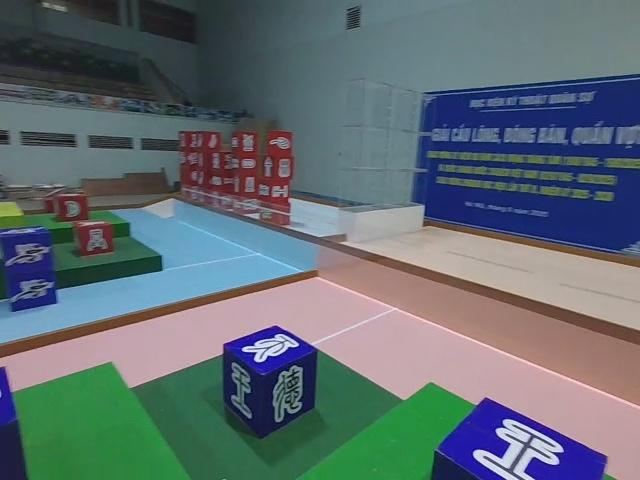R1 Blue: (0, 227, 59, 314)
R2 Fake Blue: (421, 391, 610, 480), (223, 327, 319, 441)
